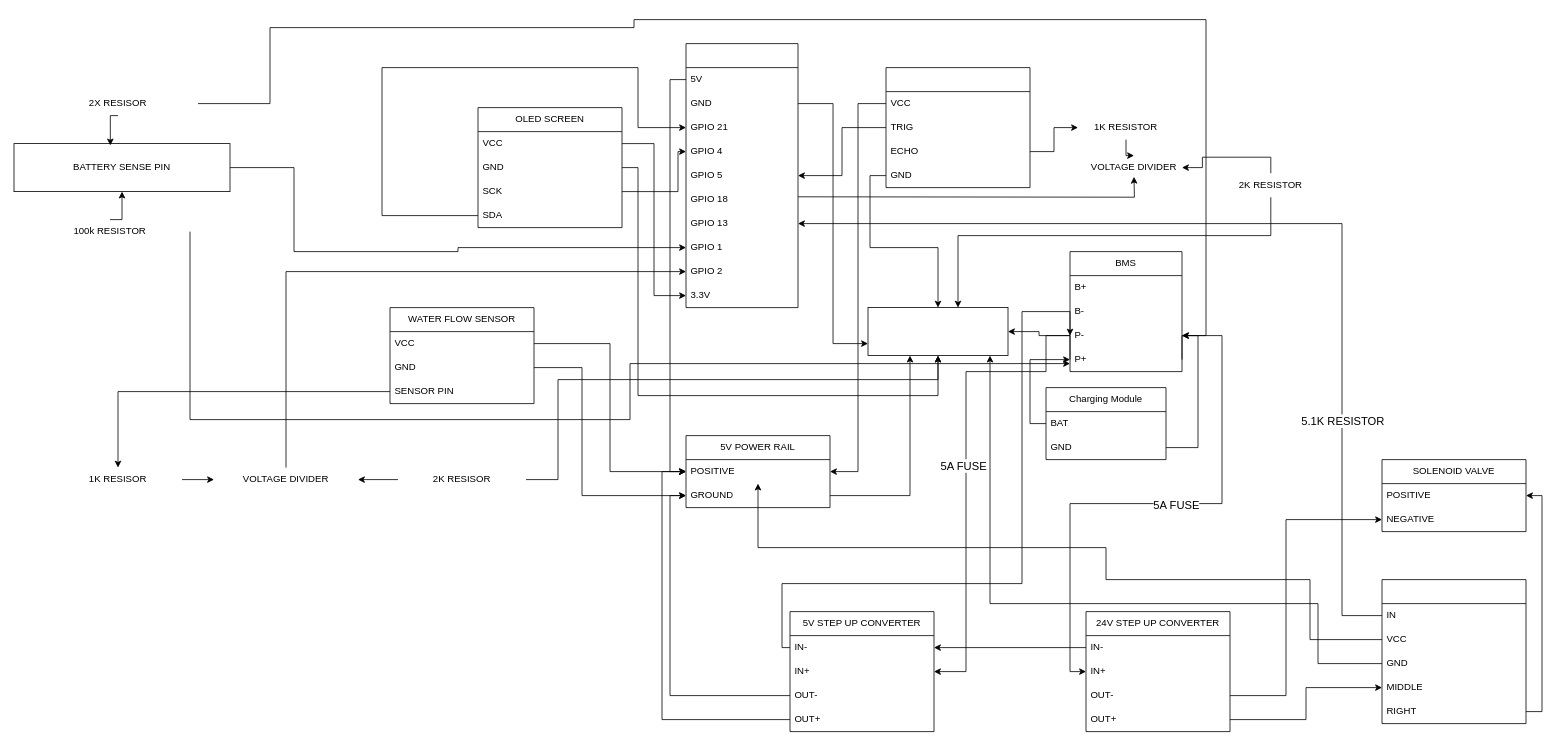
Some shapes in this 1562 by 746 pixel diagram are drawn without their labels. The shapes that lost their labels are listed below. From the top down, each one's box as (x1, y1, x2, y2) in pixels, then its label:
(885, 67, 1030, 188): Ultrasonic Sensor
(685, 43, 798, 308): ESP32
(867, 307, 1008, 356): COMMON GROUND
(1381, 579, 1526, 724): 5v Single Channel Relay
